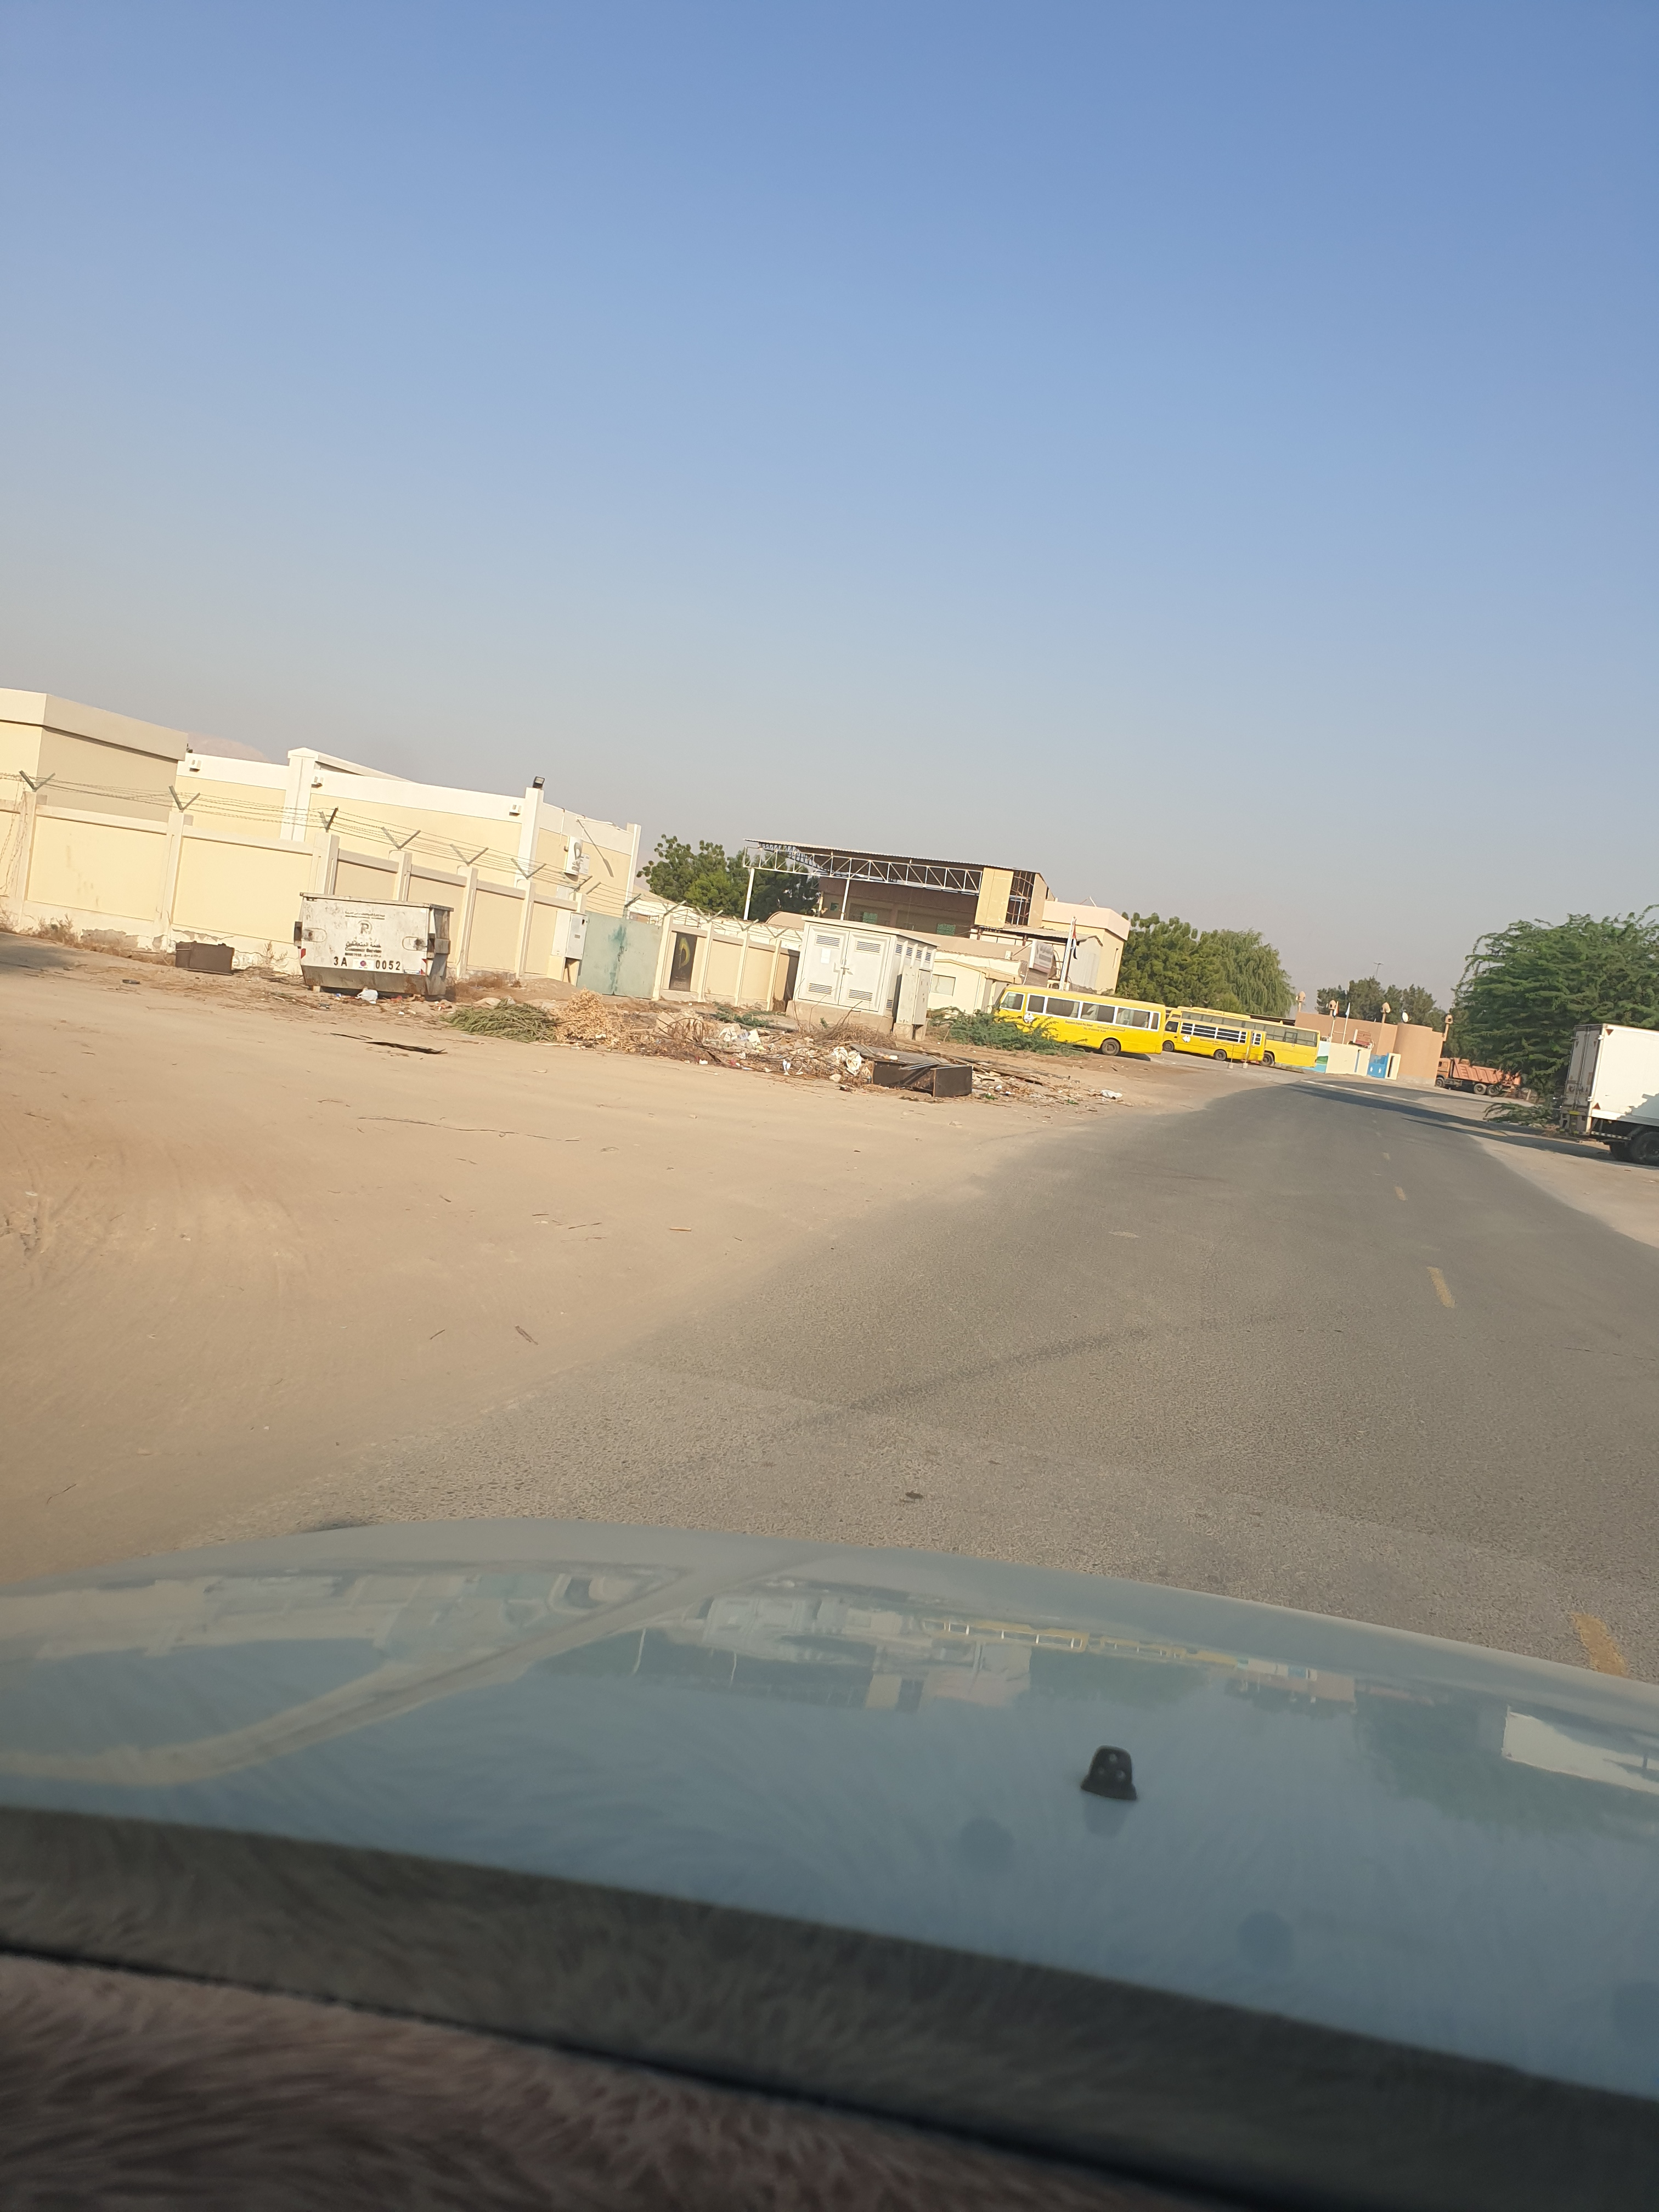fallen_trees: (464, 982, 606, 1057), (716, 1024, 833, 1101), (634, 1001, 737, 1078), (559, 988, 659, 1059)
uncollected_waste: (868, 1045, 999, 1113)
